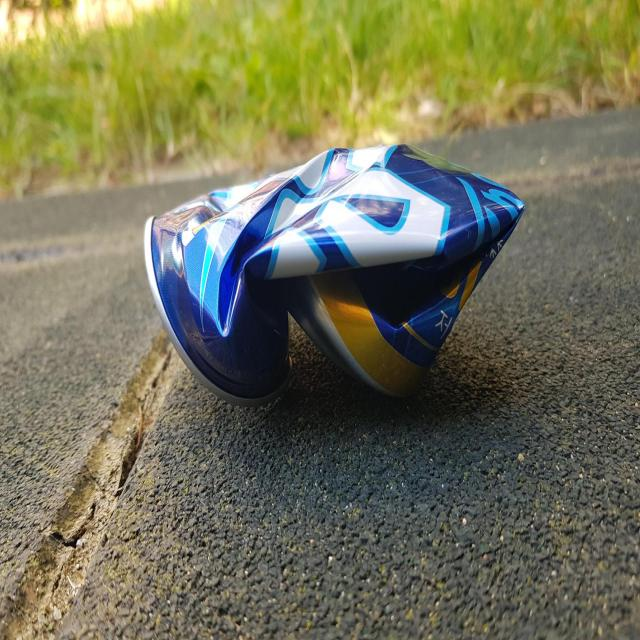can: (144, 144, 525, 404)
